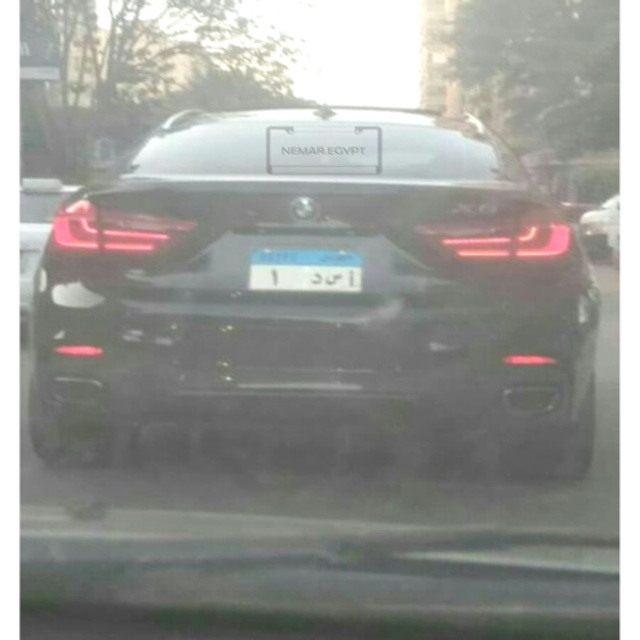License Plate: (245, 244, 367, 296)
